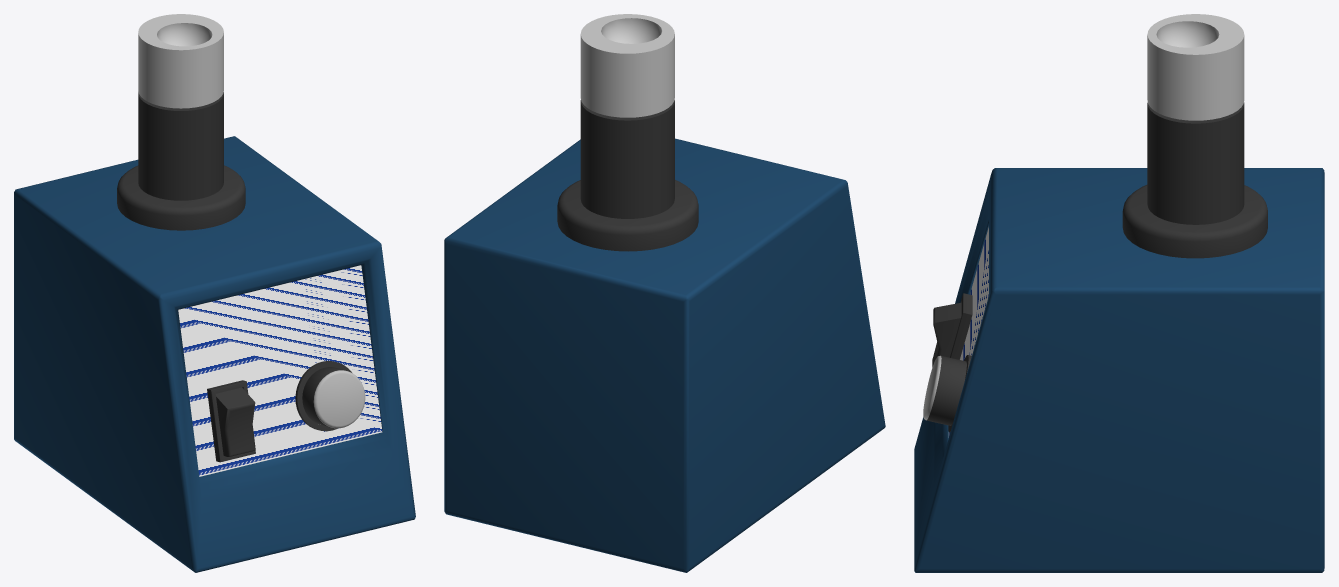
The model's file is Ворртекс.dae.
3 renders of one model, left to right at view 1: azimuth 30°, elevation 25°; view 2: azimuth 150°, elevation 25°; view 3: azimuth 270°, elevation 25°, orthographic. The views are drawn at different scales.
Parts seen in each view (by area): view 1: Вортекс, Палка, Насадка, Верхушка_Круглая, Ручка, Кнопка, Вокруг_кнопки, Вокруг_ручки; view 2: Вортекс, Палка, Насадка, Верхушка_Круглая; view 3: Вортекс, Палка, Насадка, Верхушка_Круглая, Ручка, Кнопка, Вокруг_кнопки.
Part boxes in pixels (x1=…): Вортекс: x1=14, y1=136, x2=415, y2=572; Палка: x1=138, y1=92, x2=223, y2=200; Насадка: x1=138, y1=14, x2=223, y2=108; Верхушка_Круглая: x1=117, y1=165, x2=245, y2=230; Ручка: x1=302, y1=367, x2=365, y2=428; Кнопка: x1=215, y1=387, x2=255, y2=456; Вокруг_кнопки: x1=207, y1=380, x2=255, y2=462; Вокруг_ручки: x1=295, y1=361, x2=351, y2=431; Вортекс: x1=444, y1=138, x2=885, y2=572; Палка: x1=580, y1=100, x2=674, y2=218; Насадка: x1=580, y1=14, x2=674, y2=117; Верхушка_Круглая: x1=557, y1=180, x2=698, y2=251; Вортекс: x1=914, y1=168, x2=1324, y2=572; Палка: x1=1147, y1=102, x2=1244, y2=224; Насадка: x1=1147, y1=14, x2=1244, y2=120; Верхушка_Круглая: x1=1122, y1=185, x2=1267, y2=258; Ручка: x1=923, y1=355, x2=966, y2=425; Кнопка: x1=932, y1=302, x2=961, y2=366; Вокруг_кнопки: x1=950, y1=293, x2=972, y2=359.
Size of the model in its own units: 12 by 21.81 by 16.95.
Materials: 6 (1 with a texture image).
